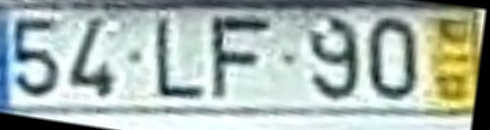0: (364, 14, 421, 106)
4: (64, 16, 120, 101)
5: (13, 19, 61, 101)
9: (307, 16, 363, 103)
F: (209, 15, 278, 104)
L: (155, 16, 206, 105)
